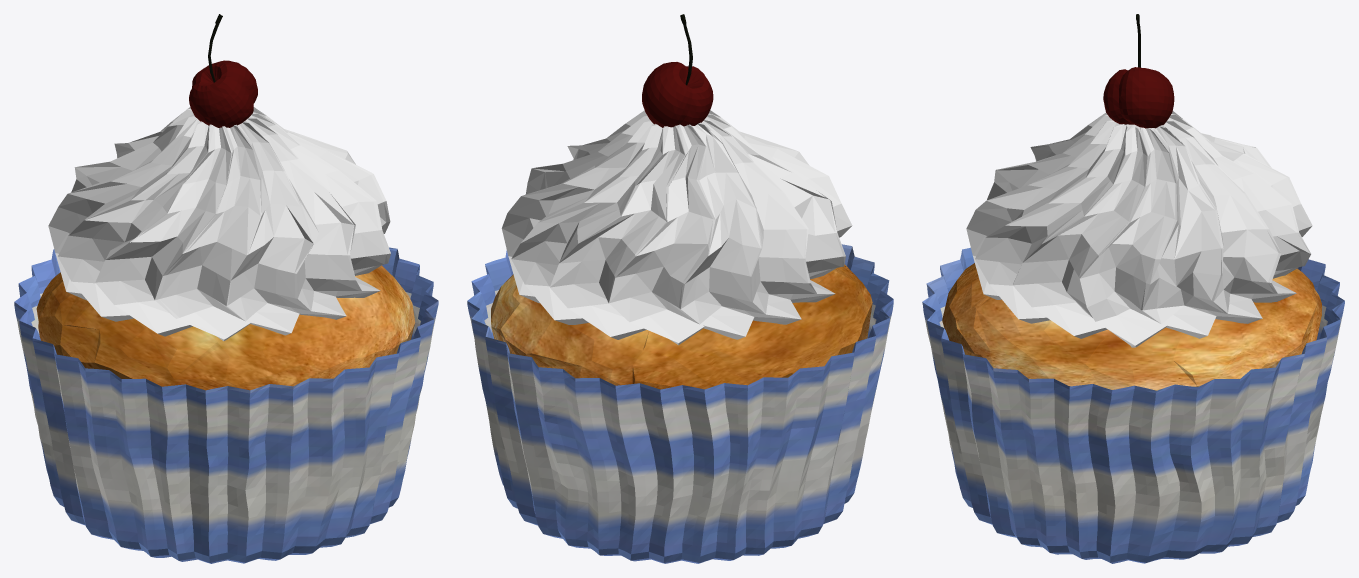
Rendered from cupcake.obj.
3 views of the same model, side by side, from view 1: azimuth 30°, elevation 25°; view 2: azimuth 150°, elevation 25°; view 3: azimuth 270°, elevation 25° (orthographic).
Visible parts, largest first — view 1: Circle.001, Circle.002_Circle.003, Sphere, Sphere.001; view 2: Circle.001, Circle.002_Circle.003, Sphere, Sphere.001; view 3: Circle.001, Circle.002_Circle.003, Sphere, Sphere.001.
Boxes of the visible parts, x1,y1,x2,y2 form: Circle.001: (14, 247, 438, 563); Circle.002_Circle.003: (48, 107, 390, 341); Sphere: (36, 265, 415, 390); Sphere.001: (189, 60, 257, 127); Circle.001: (467, 244, 893, 563); Circle.002_Circle.003: (501, 110, 852, 345); Sphere: (491, 264, 872, 389); Sphere.001: (642, 62, 713, 127); Circle.001: (922, 247, 1344, 563); Circle.002_Circle.003: (966, 111, 1312, 347); Sphere: (942, 263, 1321, 390); Sphere.001: (1103, 67, 1174, 128).
Size of the model in its own units: 5.9 by 7.53 by 5.93.
